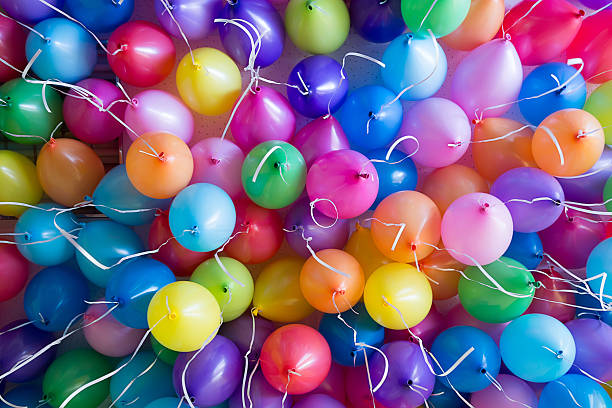Balloon: (498, 312, 577, 381), (440, 191, 512, 265), (147, 281, 222, 352), (453, 257, 536, 320), (171, 335, 245, 405), (452, 37, 521, 112), (259, 324, 331, 394), (530, 108, 604, 176), (502, 1, 583, 63), (306, 149, 379, 217), (427, 327, 502, 393), (373, 188, 439, 261), (238, 140, 307, 207), (491, 167, 564, 230), (37, 137, 99, 210), (168, 183, 235, 250), (400, 99, 468, 165), (363, 263, 433, 327), (27, 19, 99, 81), (125, 132, 193, 197), (61, 78, 129, 143), (380, 34, 449, 97), (176, 46, 241, 112), (299, 248, 364, 314), (23, 266, 90, 330), (40, 350, 112, 408), (219, 1, 282, 66), (520, 63, 591, 119), (12, 205, 75, 266), (1, 79, 62, 142), (123, 90, 196, 141), (284, 56, 350, 112), (283, 1, 350, 56), (230, 86, 295, 142), (341, 85, 400, 146), (74, 221, 137, 276), (471, 114, 534, 167), (155, 1, 222, 38)
